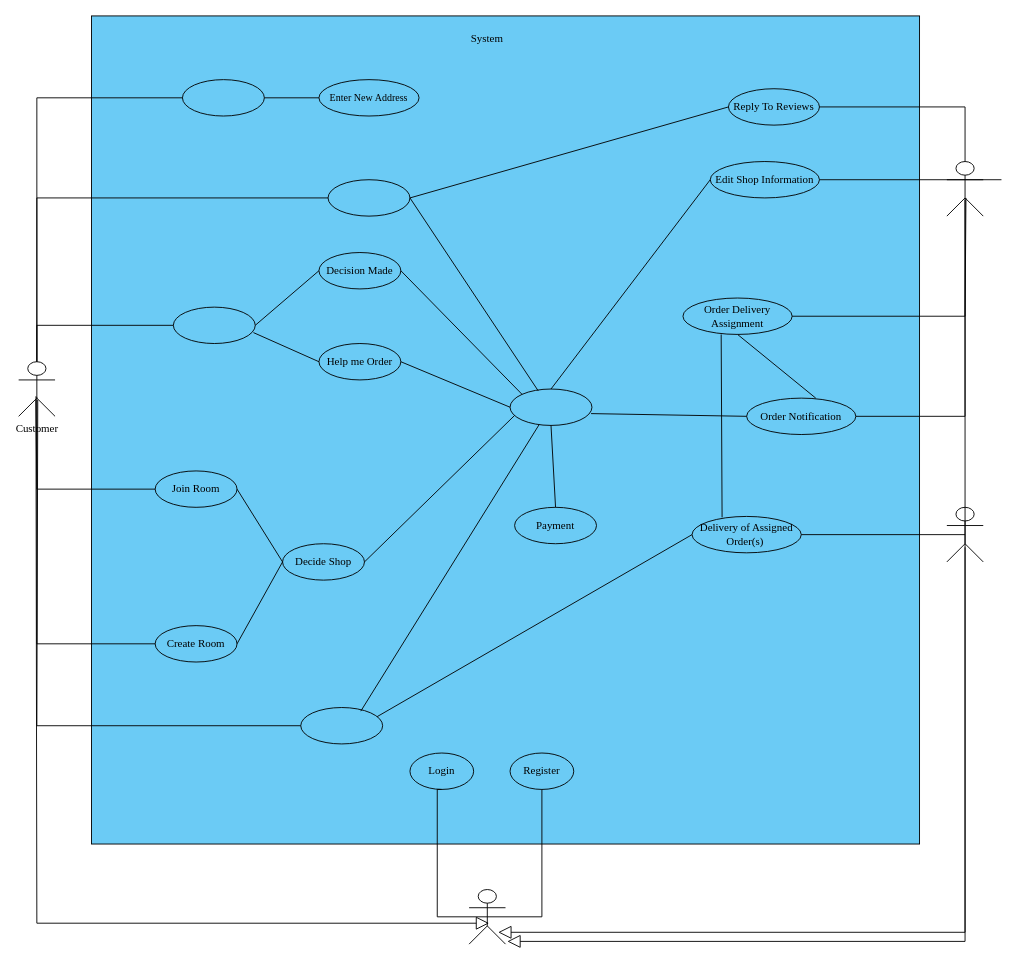
Some shapes in this 1018 by 979 pixel diagram are drawn without their labels. The shapes that lost their labels are listed below. From the top down, each one's box as (x1, y1, x2, y2) in pixels, then its label:
(182, 79, 264, 116): Select Address
(327, 179, 410, 216): Review
(946, 161, 983, 216): Shop
(172, 306, 255, 344): Solo Order
(509, 388, 592, 425): Order
(946, 506, 983, 562): Delivery Person
(300, 707, 383, 744): Track Order
(468, 889, 506, 944): ActorName
